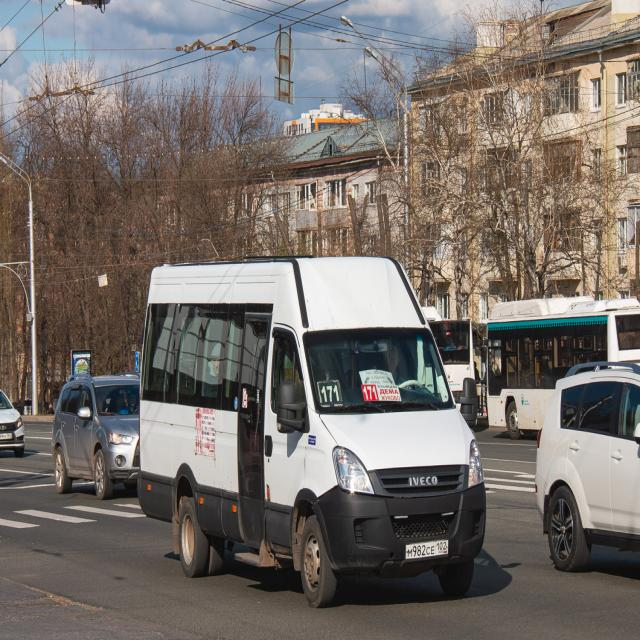number-of-bus: (321, 383, 343, 403), (363, 385, 379, 402)
